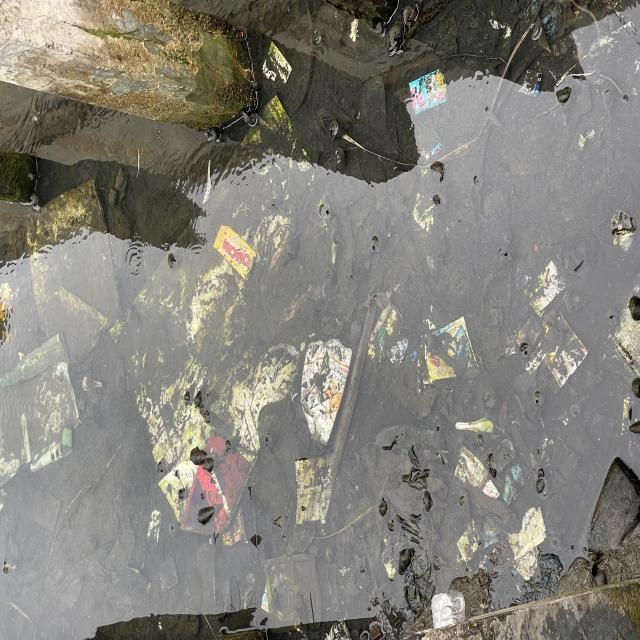Botol Plastik: (428, 587, 469, 631)
Bungkus Makanan: (298, 337, 354, 447), (422, 315, 482, 387), (213, 223, 259, 283)
